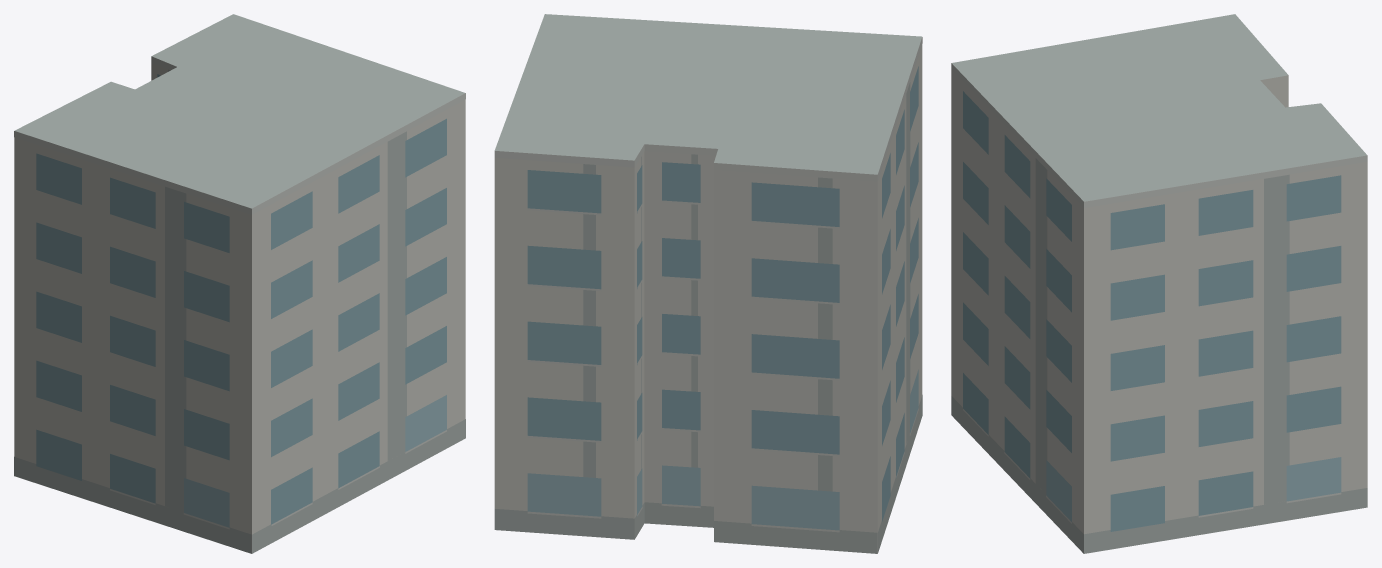
File: survey-upis-32883346.glb
3 views of the same model, side by side, from view 1: azimuth 30°, elevation 25°; view 2: azimuth 150°, elevation 25°; view 3: azimuth 270°, elevation 25° (orthographic). The views are drawn at different scales.
Parts seen in each view (by area): view 1: survey-upis-32883346.tmp; view 2: survey-upis-32883346.tmp; view 3: survey-upis-32883346.tmp.
Boxes of the visible parts, left/top/right/bottom form: survey-upis-32883346.tmp: left=14, top=14, right=465, bottom=553; survey-upis-32883346.tmp: left=494, top=14, right=922, bottom=553; survey-upis-32883346.tmp: left=951, top=14, right=1367, bottom=553.
Bounding box in the file's own units: 14.99 × 13.1 × 14.04.
